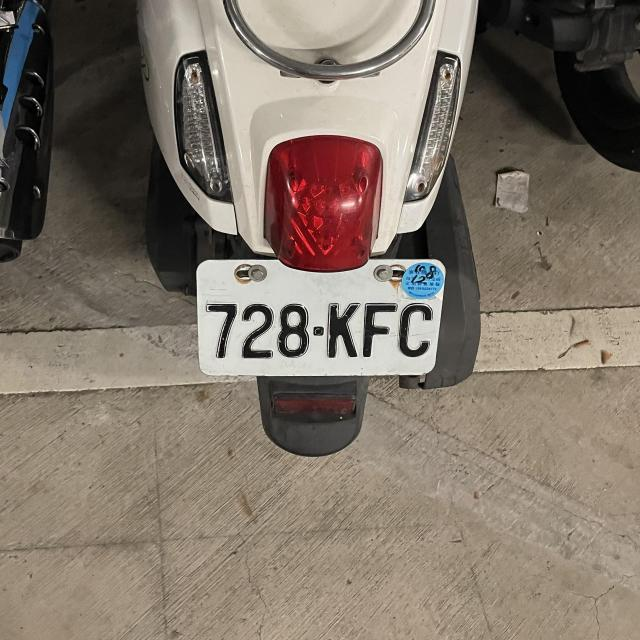W: (193, 252, 450, 378)
